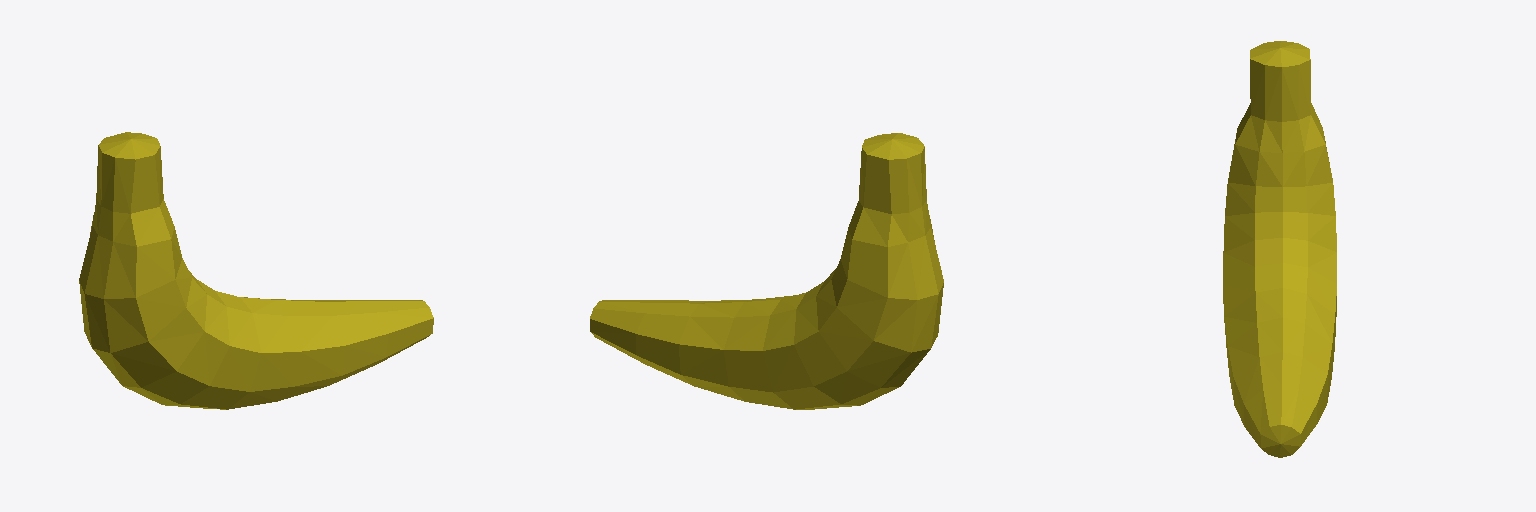
3 renders of one model, left to right at view 1: azimuth 30°, elevation 25°; view 2: azimuth 150°, elevation 25°; view 3: azimuth 270°, elevation 25°, orthographic.
Visible parts, largest first — view 1: CUT_BANANA_NXG0000; view 2: CUT_BANANA_NXG0000; view 3: CUT_BANANA_NXG0000.
Part boxes in pixels (bbox=[...]): CUT_BANANA_NXG0000: bbox=[79, 132, 433, 409]; CUT_BANANA_NXG0000: bbox=[590, 133, 943, 409]; CUT_BANANA_NXG0000: bbox=[1223, 41, 1336, 457].
Size of the model in its own units: 0.1798 by 0.1478 by 0.0521.
Materials: 1 (1 with a texture image).